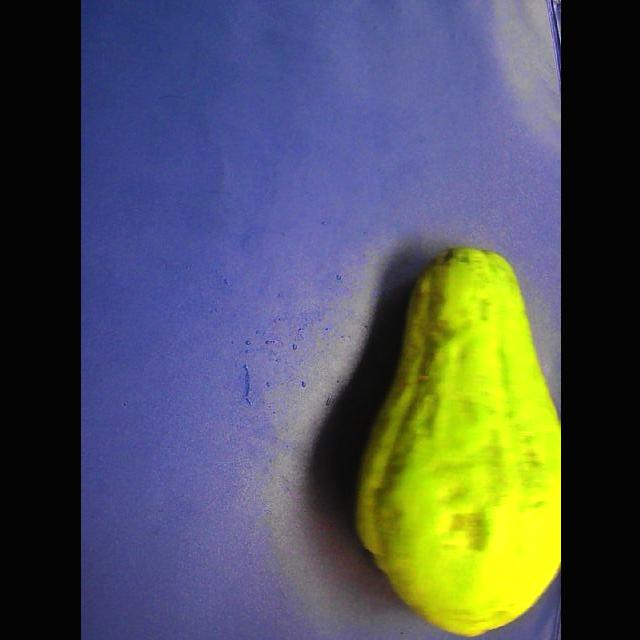chayote: (355, 248, 560, 636)
